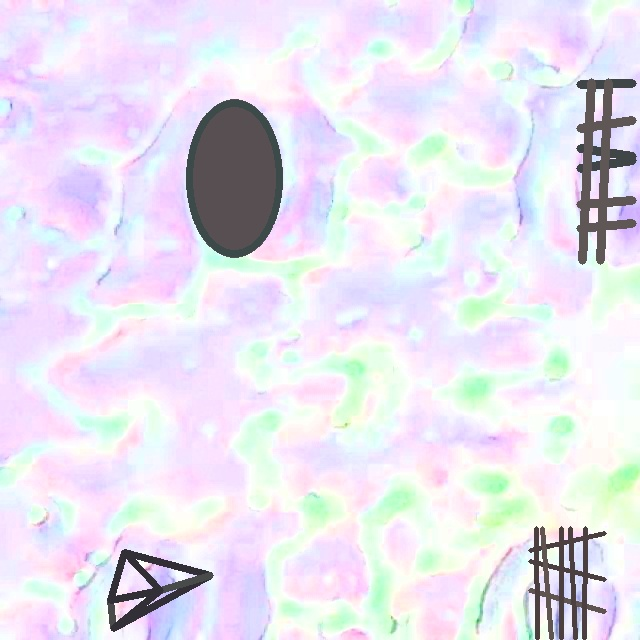open: (185, 99, 282, 257), (576, 78, 636, 263), (108, 549, 213, 631), (529, 527, 605, 639)
